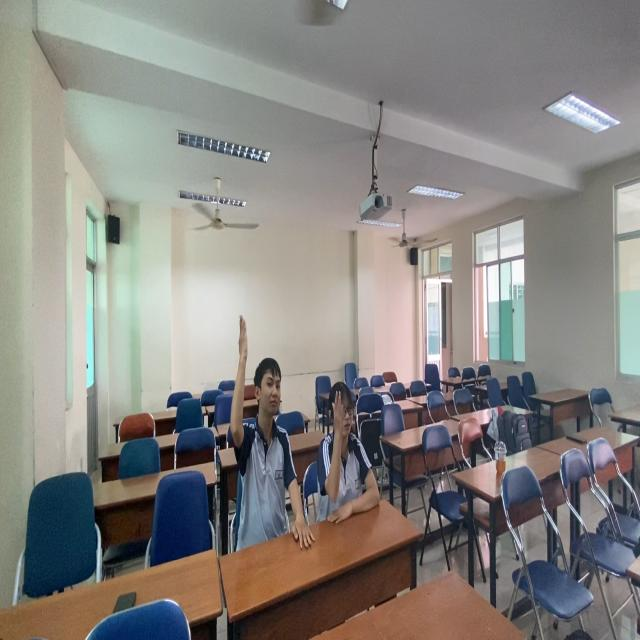raise_hand: (226, 311, 309, 555), (319, 379, 383, 532)
